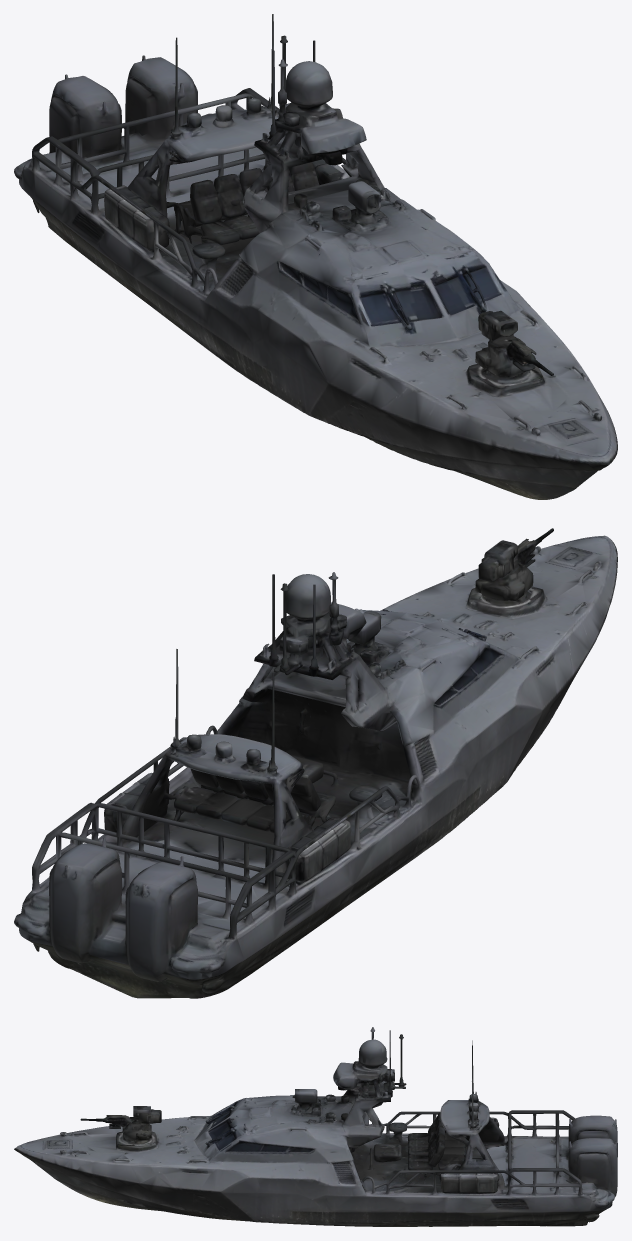
File: boat_stealth.glb
The picture shows the model from 3 angles, top to bottom: view 1: azimuth 30°, elevation 25°; view 2: azimuth 150°, elevation 25°; view 3: azimuth 270°, elevation 25°; orthographic projection. The views are drawn at different scales.
Visible parts, largest first — view 1: node_0; view 2: node_0; view 3: node_0.
Part boxes in pixels (x1,y1,x2,y2): node_0: [14, 14, 617, 499]; node_0: [14, 528, 617, 998]; node_0: [14, 1027, 617, 1226].
Size of the model in its own units: 0.2937 by 0.3912 by 1.17.
Materials: 1 (1 with a texture image).
